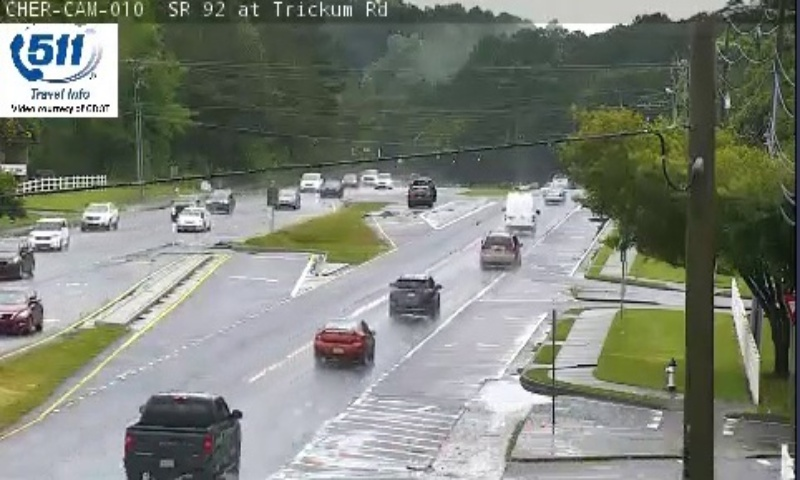car: (126, 391, 242, 480), (313, 321, 373, 360), (388, 276, 439, 315), (480, 234, 520, 268)
van: (505, 191, 535, 232)
